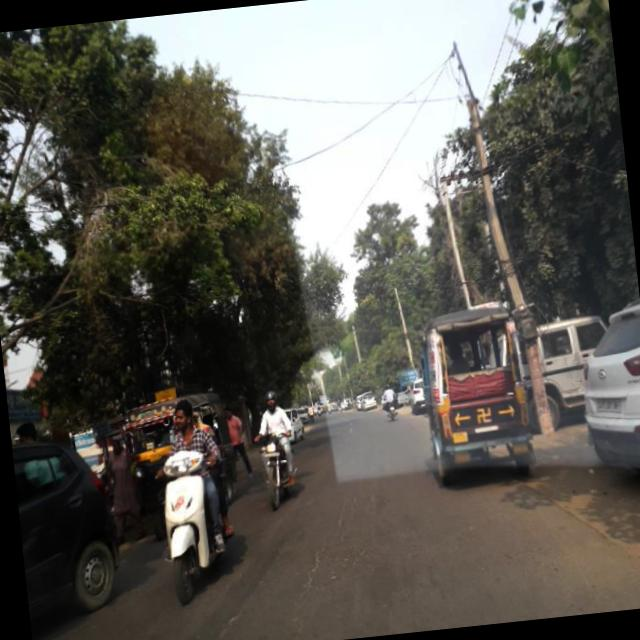pothole: (292, 457, 402, 593)
